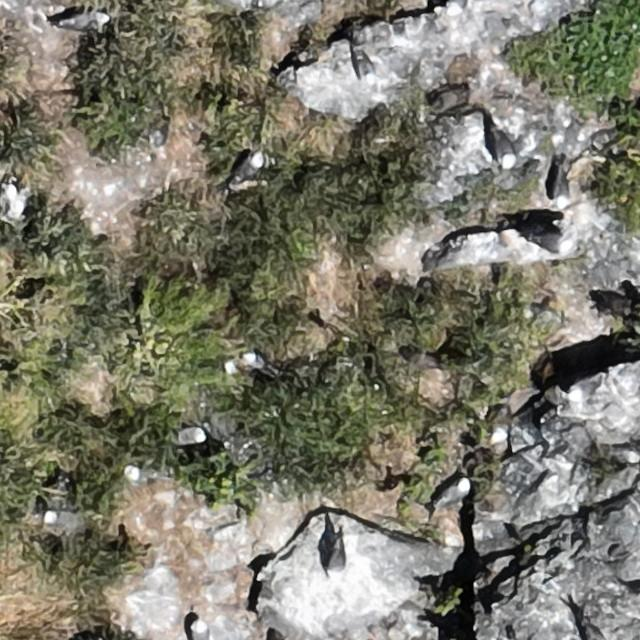umineko: (228, 151, 264, 185), (492, 396, 515, 446), (121, 465, 173, 486), (566, 378, 605, 402), (67, 11, 111, 29), (438, 479, 468, 505), (494, 130, 516, 165), (534, 231, 565, 252), (328, 542, 345, 578), (4, 184, 22, 216), (178, 427, 208, 446), (243, 354, 270, 373), (45, 511, 71, 528), (356, 54, 373, 80), (554, 176, 568, 206), (191, 618, 206, 640), (584, 626, 606, 640)
